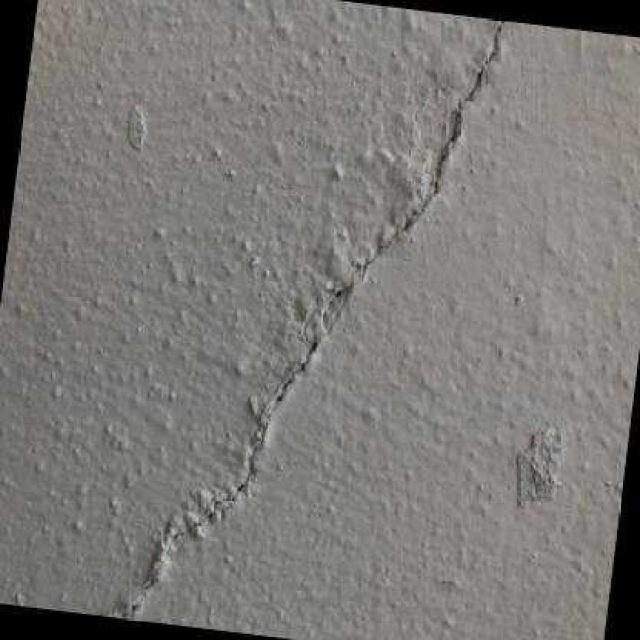D00: (117, 20, 503, 618)
